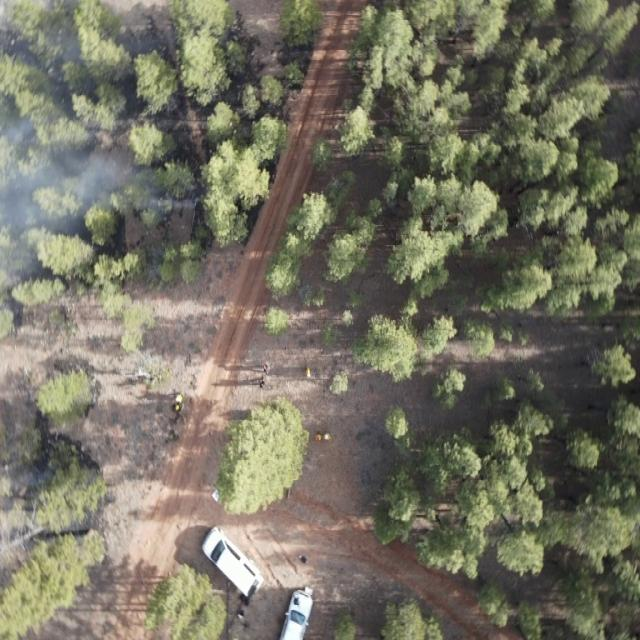smoke: (0, 0, 194, 310), (0, 466, 61, 543)
